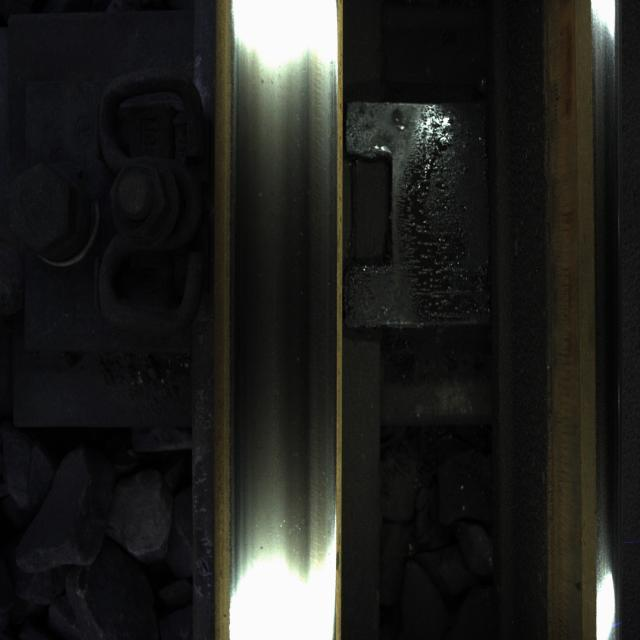normal: (230, 30, 332, 599)
